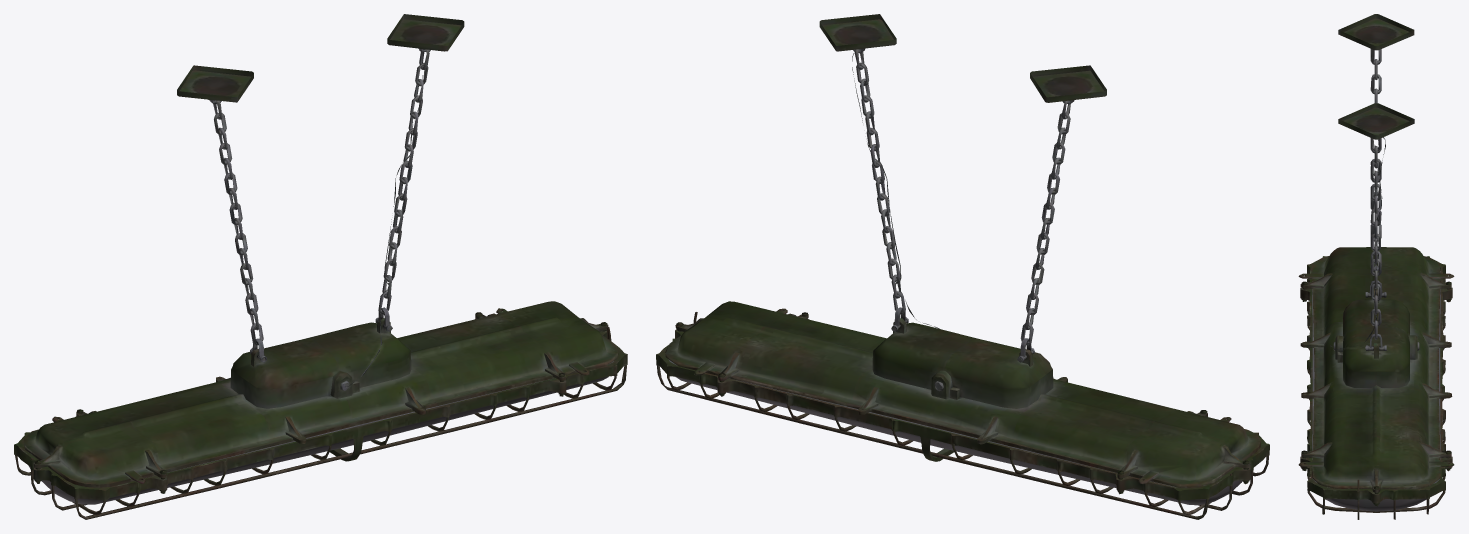
The model's file is caged_hanging_light.glb.
3 renders of one model, left to right at view 1: azimuth 30°, elevation 25°; view 2: azimuth 150°, elevation 25°; view 3: azimuth 270°, elevation 25°, orthographic. The views are drawn at different scales.
Parts seen in each view (by area): view 1: caged_hanging_light; view 2: caged_hanging_light; view 3: caged_hanging_light.
Part boxes in pixels (bbox=[...]): caged_hanging_light: bbox=[14, 14, 627, 519]; caged_hanging_light: bbox=[656, 14, 1269, 519]; caged_hanging_light: bbox=[1298, 14, 1454, 519].
Bounding box in the file's own units: 1.16 × 0.7501 × 0.3149.
1 material, 1 textured.
